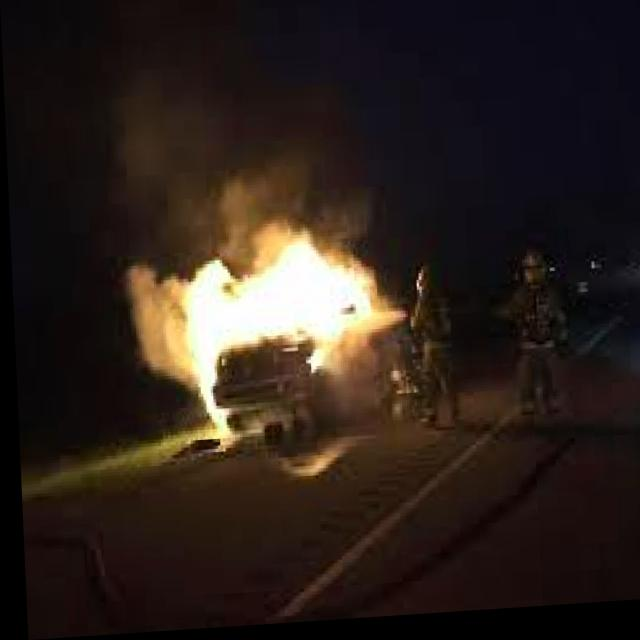fire: (122, 224, 401, 433)
